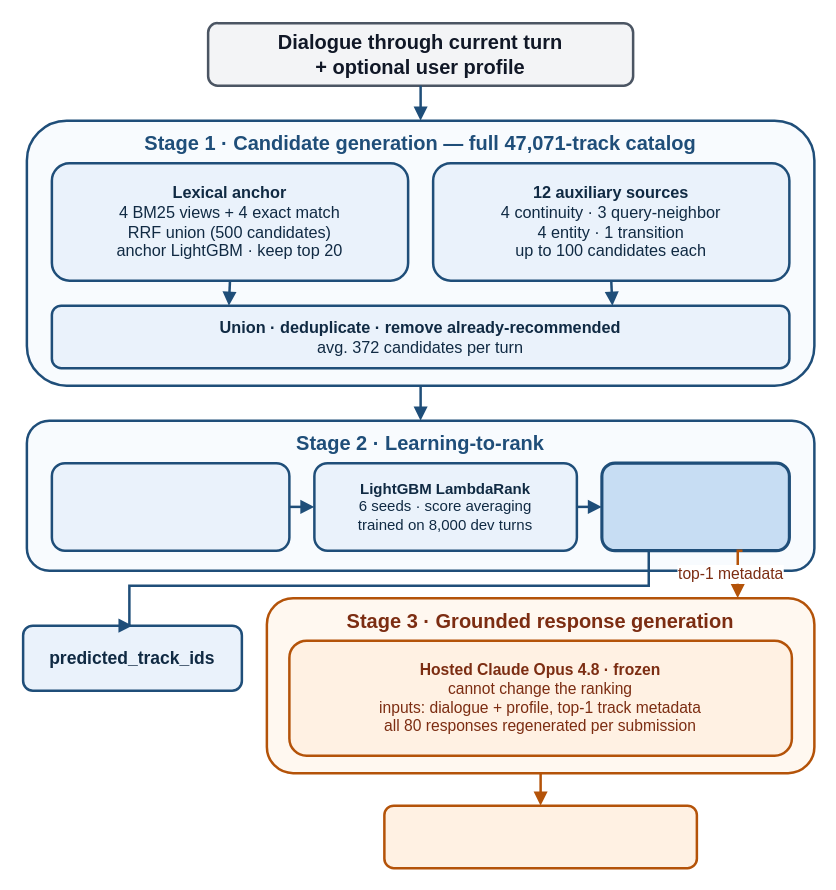
The diagram is 836 pixels wide and 890 high, and some of its shapes have lost their labels. Each missing label, with the centre of its shape:
"73 rank-only features anchor · source ranks agreement · turn position" belongs at pixel 170 506.
"Fixed top-20 ranking" belongs at pixel 695 506.
"predicted_response" belongs at pixel 540 836.
